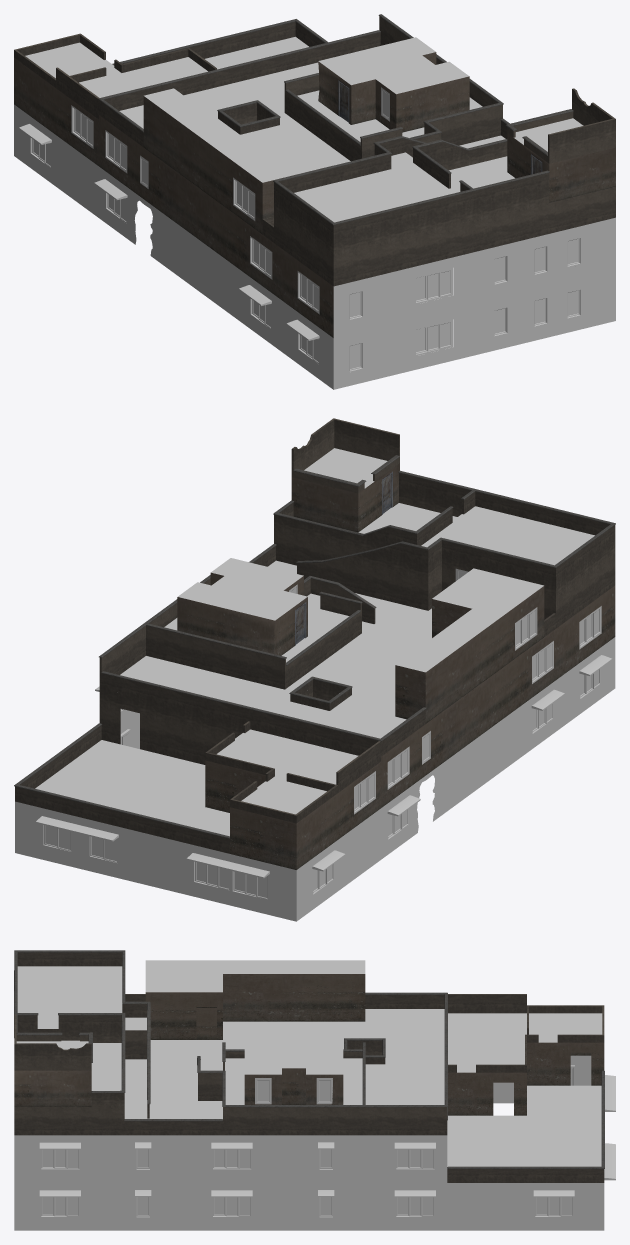
The model's file is RoofExt_Struct.FBX.
3 views of the same model, one above another, from view 1: azimuth 30°, elevation 25°; view 2: azimuth 150°, elevation 25°; view 3: azimuth 270°, elevation 25° (orthographic). The views are drawn at different scales.
Visible parts, largest first — view 1: RoofExt_Struct; view 2: RoofExt_Struct; view 3: RoofExt_Struct.
Boxes of the visible parts, x1,y1,x2,y2 form: RoofExt_Struct: [14, 14, 615, 389]; RoofExt_Struct: [14, 418, 615, 921]; RoofExt_Struct: [14, 950, 615, 1230].
Size of the model in its own units: 1972 by 1570 by 3660.
